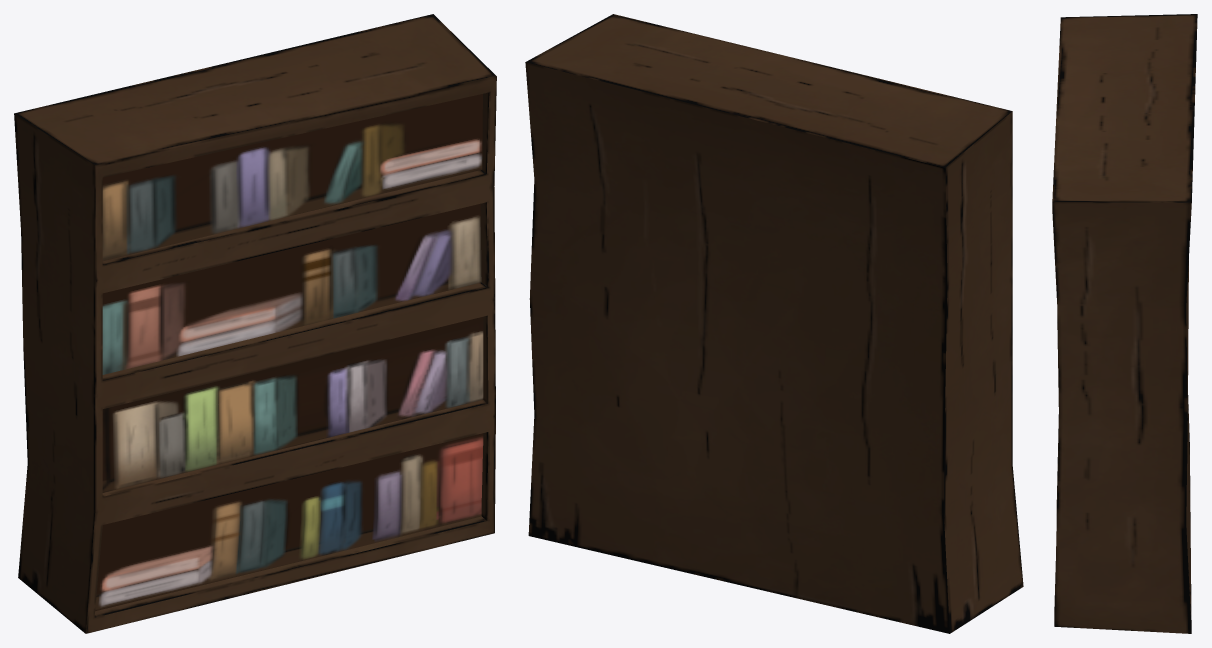
The model's file is BookSelf.fbx.
3 renders of one model, left to right at view 1: azimuth 30°, elevation 25°; view 2: azimuth 150°, elevation 25°; view 3: azimuth 270°, elevation 25°, orthographic. The views are drawn at different scales.
Visible parts, largest first — view 1: Bookshelf.003; view 2: Bookshelf.003; view 3: Bookshelf.003.
Part boxes in pixels (x1,y1,x2,y2): Bookshelf.003: (14,14,496,633); Bookshelf.003: (525,14,1023,633); Bookshelf.003: (1052,14,1197,633).
Size of the model in its own units: 208 by 221 by 67.21.
1 material, 1 textured.
